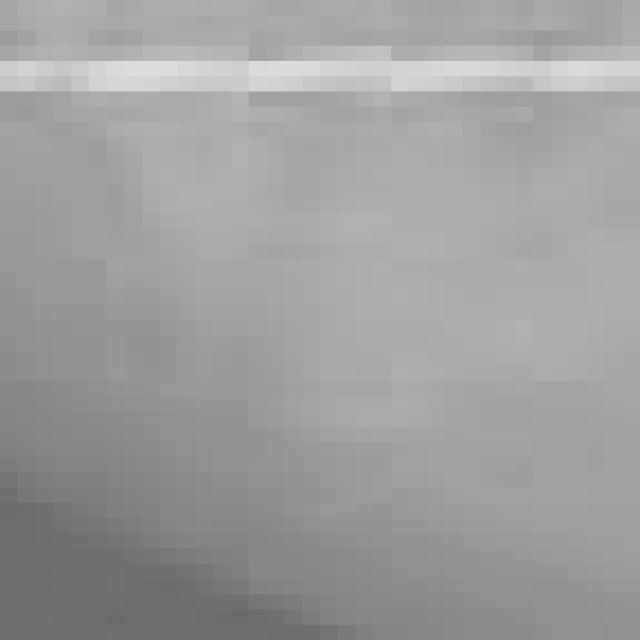fracture: (14, 0, 640, 640)
